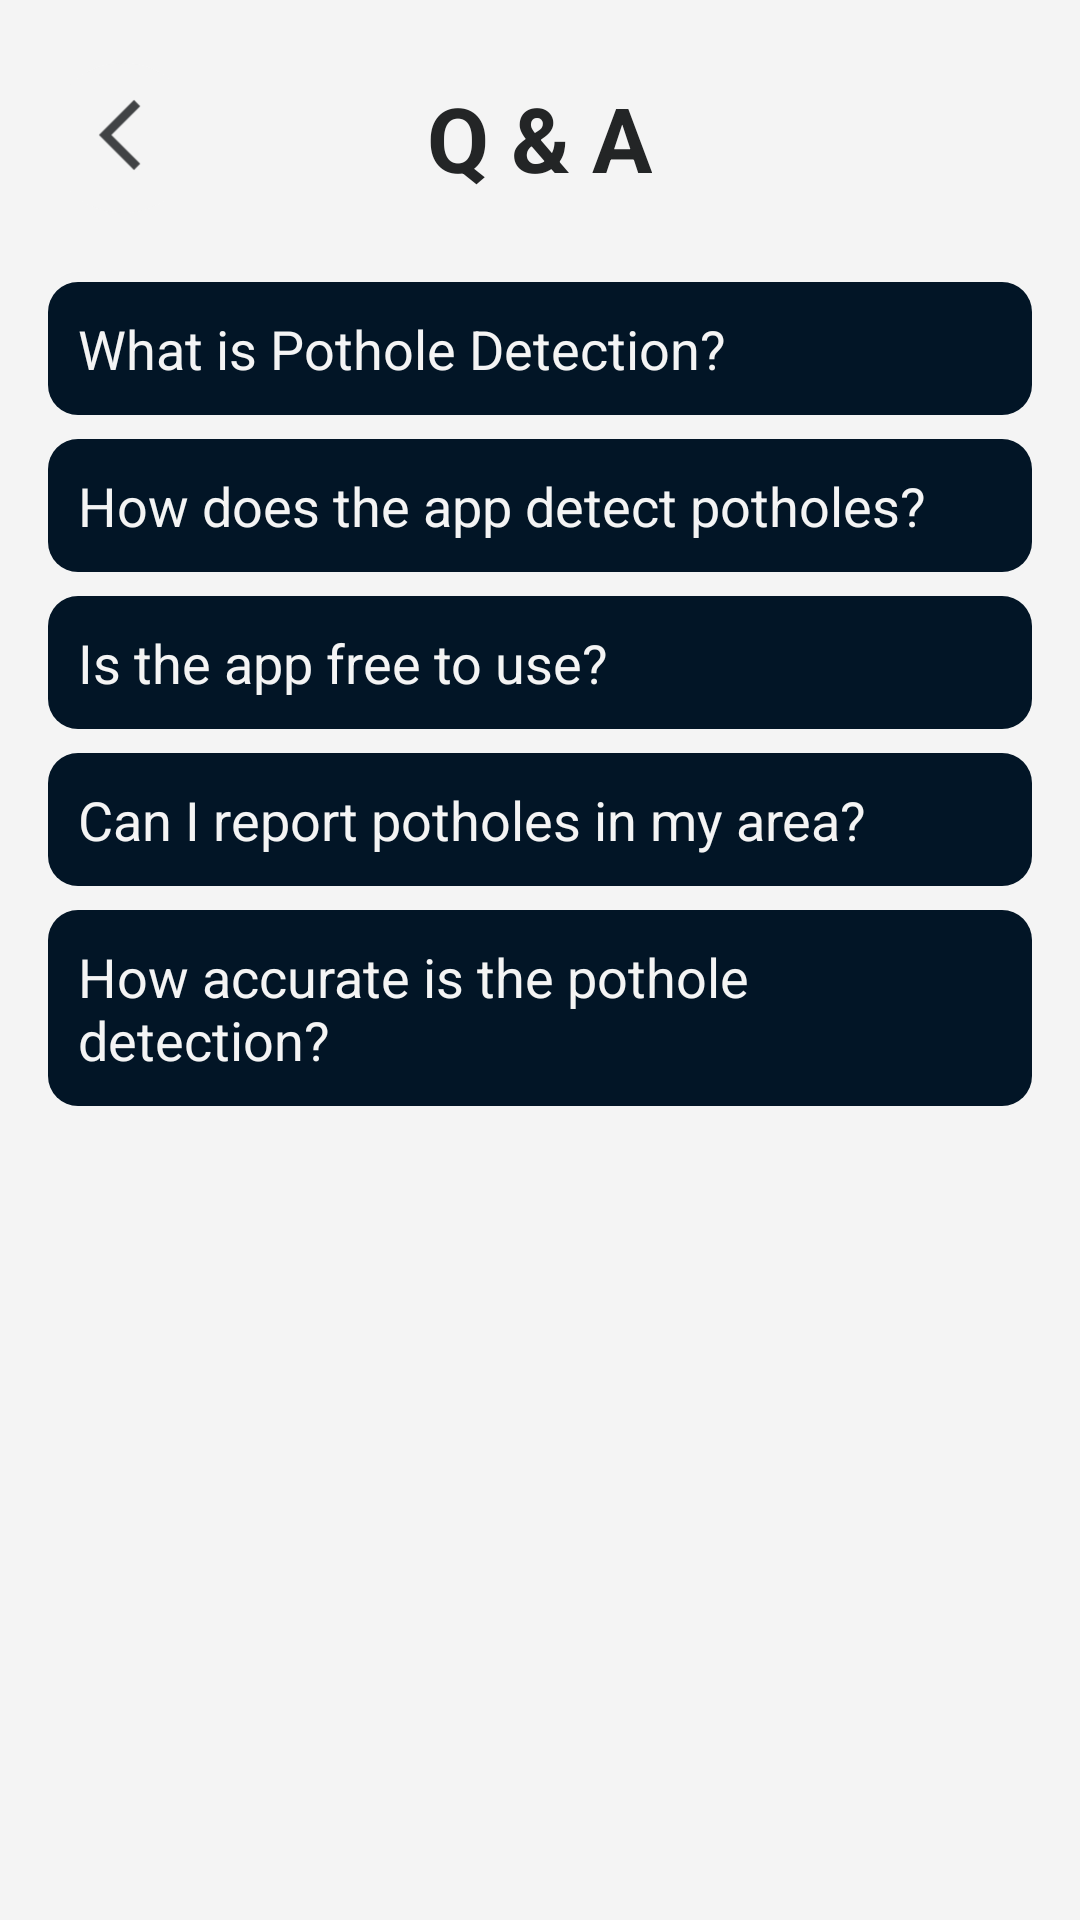

Screen size 1080x1920. Icon name, then its center in pixels as (x=x, y=y):
back: (x=119, y=135)
